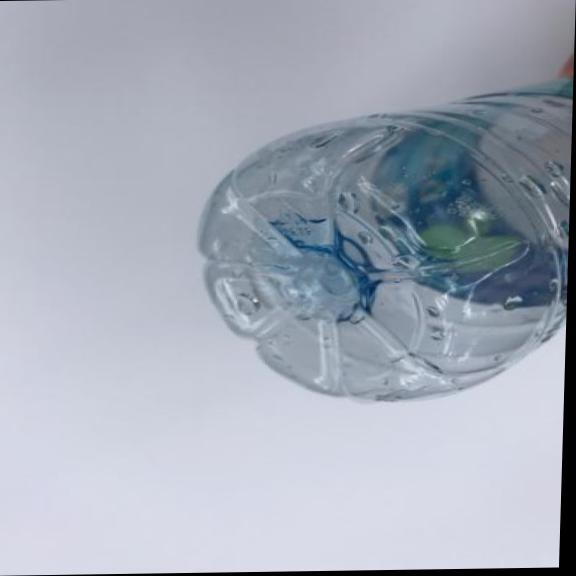Plastik: (183, 95, 573, 409)
